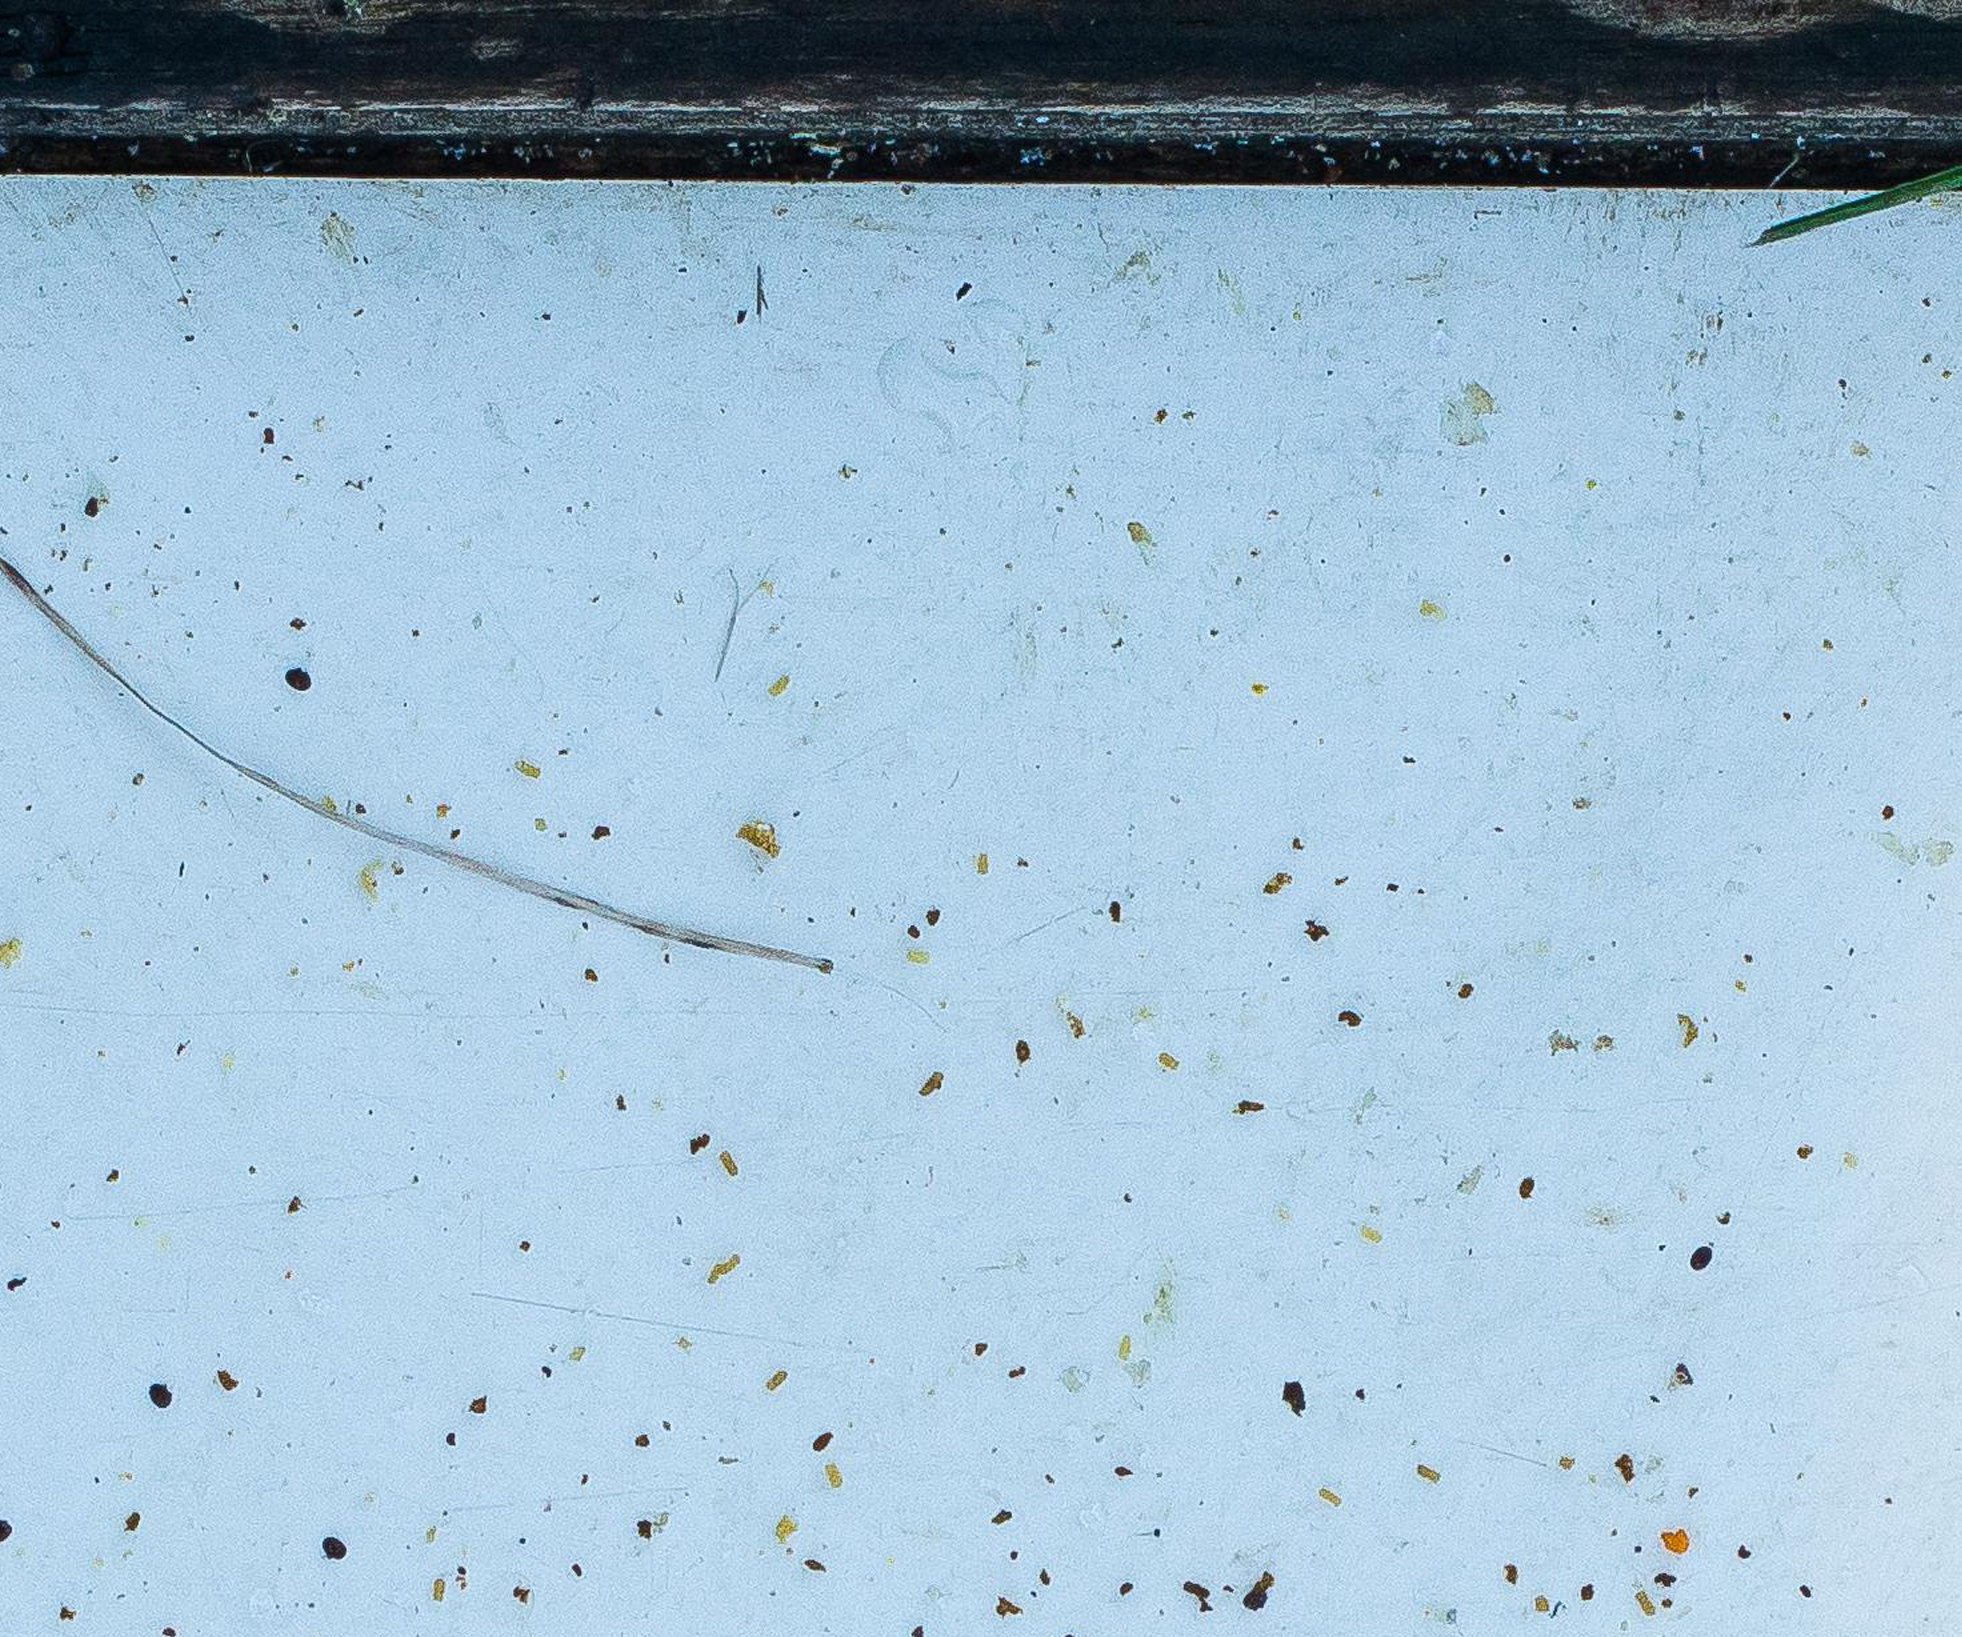Varroa: (285, 660, 319, 700), (143, 1375, 178, 1411), (1682, 1244, 1714, 1280), (318, 1526, 350, 1560)
